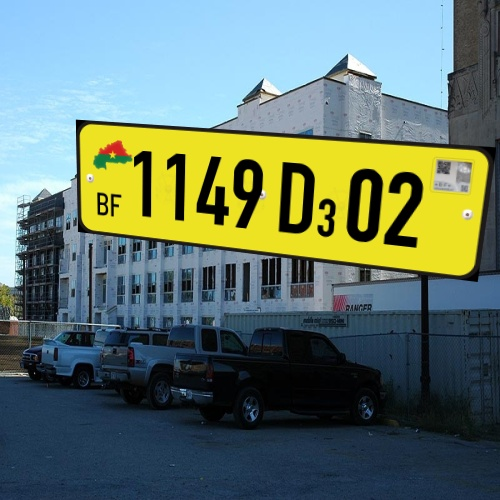plate: (62, 105, 495, 291)
